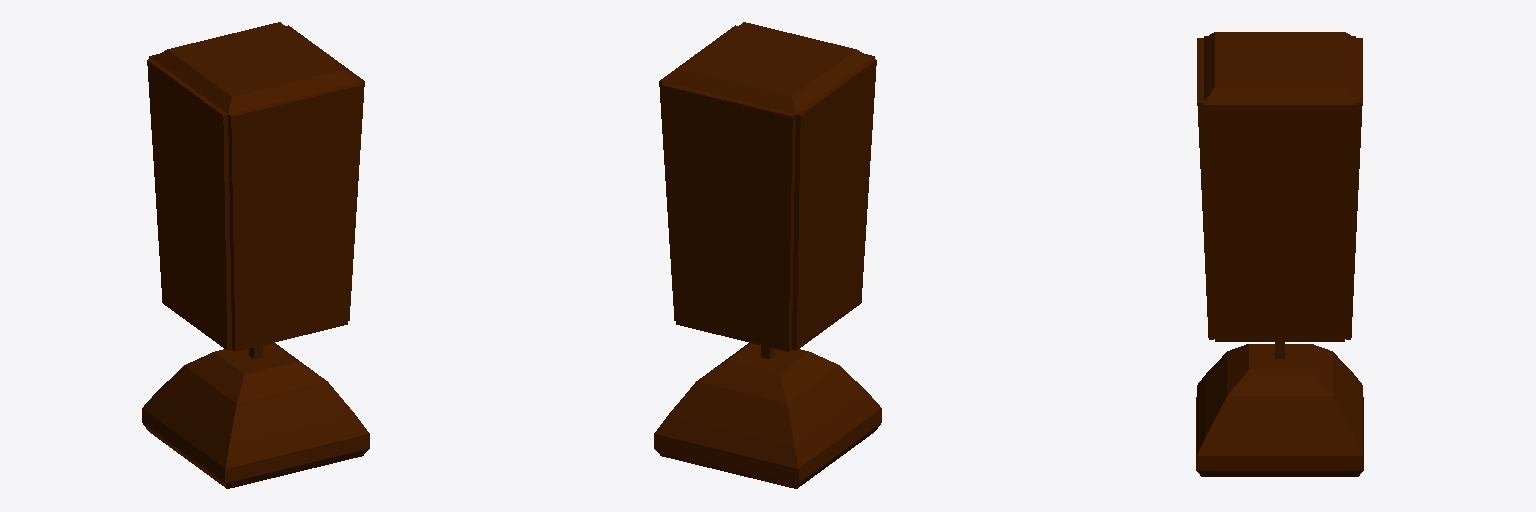
File: LampRemodelSubstance.obj
3 renders of one model, left to right at view 1: azimuth 30°, elevation 25°; view 2: azimuth 150°, elevation 25°; view 3: azimuth 270°, elevation 25°, orthographic.
Visible parts, largest first — view 1: pCube5, pCube5 pCube4; view 2: pCube5, pCube5 pCube4; view 3: pCube5, pCube5 pCube4.
Part boxes in pixels (x1,y1,x2,y2): pCube5: (147,22,364,351); pCube5 pCube4: (142,343,369,488); pCube5: (659,22,876,351); pCube5 pCube4: (654,343,881,488); pCube5: (1197,32,1362,341); pCube5 pCube4: (1196,344,1363,476).
Bounding box in the file's own units: 1.29 × 3.34 × 1.29.